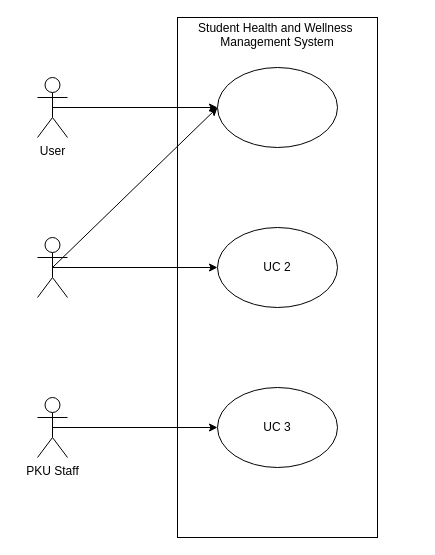
The diagram is 435 pixels wide and 555 high, and some of its shapes have lost their labels. The shapes that lost their labels are listed below. From the top down, each one's box as (x1, y1, x2, y2) in pixels, then its label:
(216, 66, 338, 148): UC 1
(36, 236, 68, 298): Administrator
